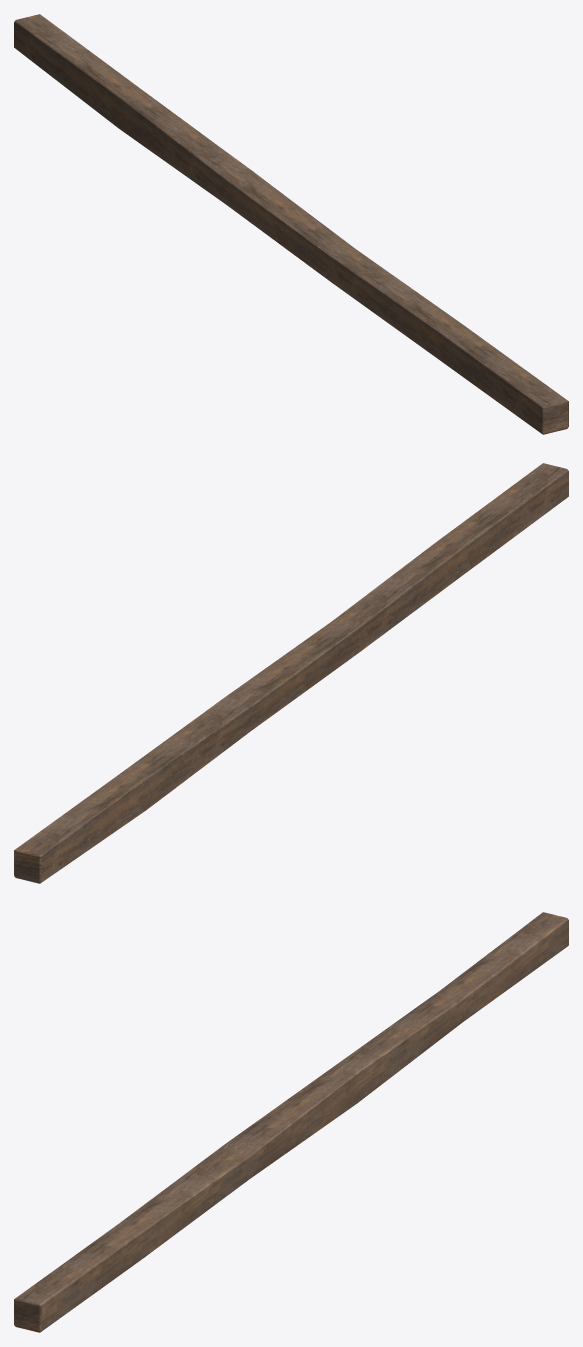
Rendered from SM_WoodenBeam.fbx.
3 renders of one model, top to bottom at view 1: azimuth 30°, elevation 25°; view 2: azimuth 150°, elevation 25°; view 3: azimuth 330°, elevation 25°, orthographic.
Parts seen in each view (by area): view 1: SM_WoodenBeam_LOD0; view 2: SM_WoodenBeam_LOD0; view 3: SM_WoodenBeam_LOD0.
Boxes of the visible parts, <box> form: SM_WoodenBeam_LOD0: <box>14,14,568,434</box>; SM_WoodenBeam_LOD0: <box>14,463,568,883</box>; SM_WoodenBeam_LOD0: <box>14,912,568,1332</box>.
Bounding box in the file's own units: 22.63 × 660 × 21.94.
1 material, 1 textured.
